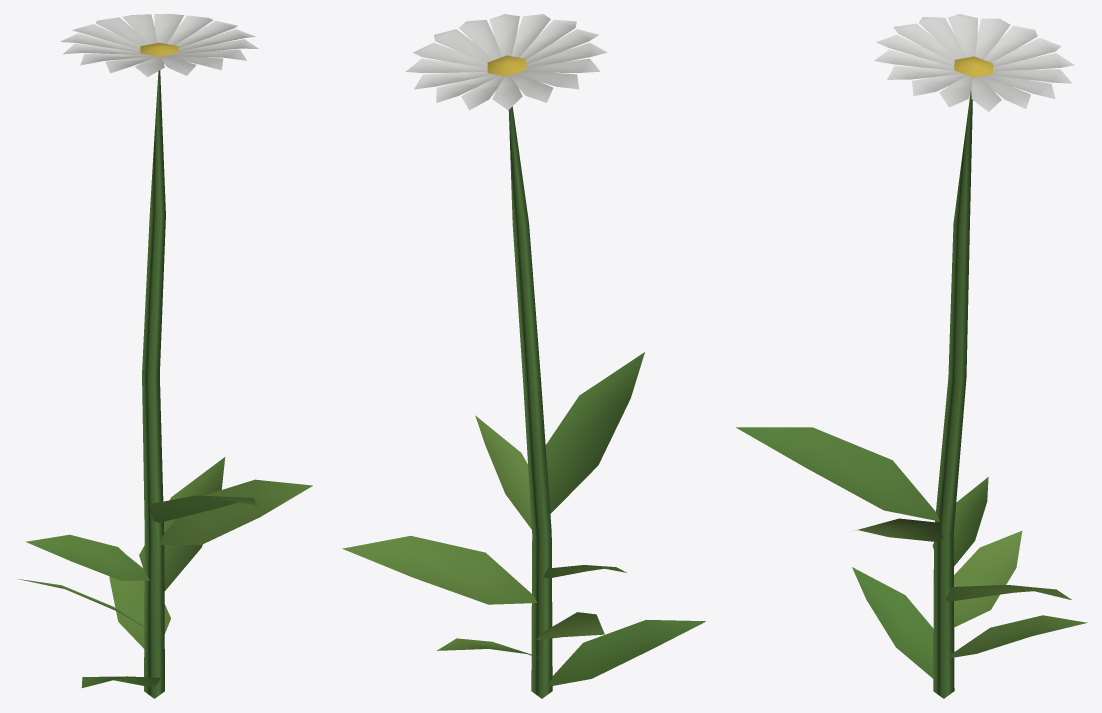
Rendered from oxeye.glb.
3 renders of one model, left to right at view 1: azimuth 30°, elevation 25°; view 2: azimuth 150°, elevation 25°; view 3: azimuth 270°, elevation 25°, orthographic.
Visible parts, largest first — view 1: oxeye; view 2: oxeye; view 3: oxeye.
Boxes of the visible parts, x1=… form: oxeye: x1=16, y1=14, x2=312, y2=698; oxeye: x1=342, y1=14, x2=705, y2=698; oxeye: x1=736, y1=14, x2=1087, y2=698.
Bounding box in the file's own units: 0.144 × 0.3517 × 0.1719.
